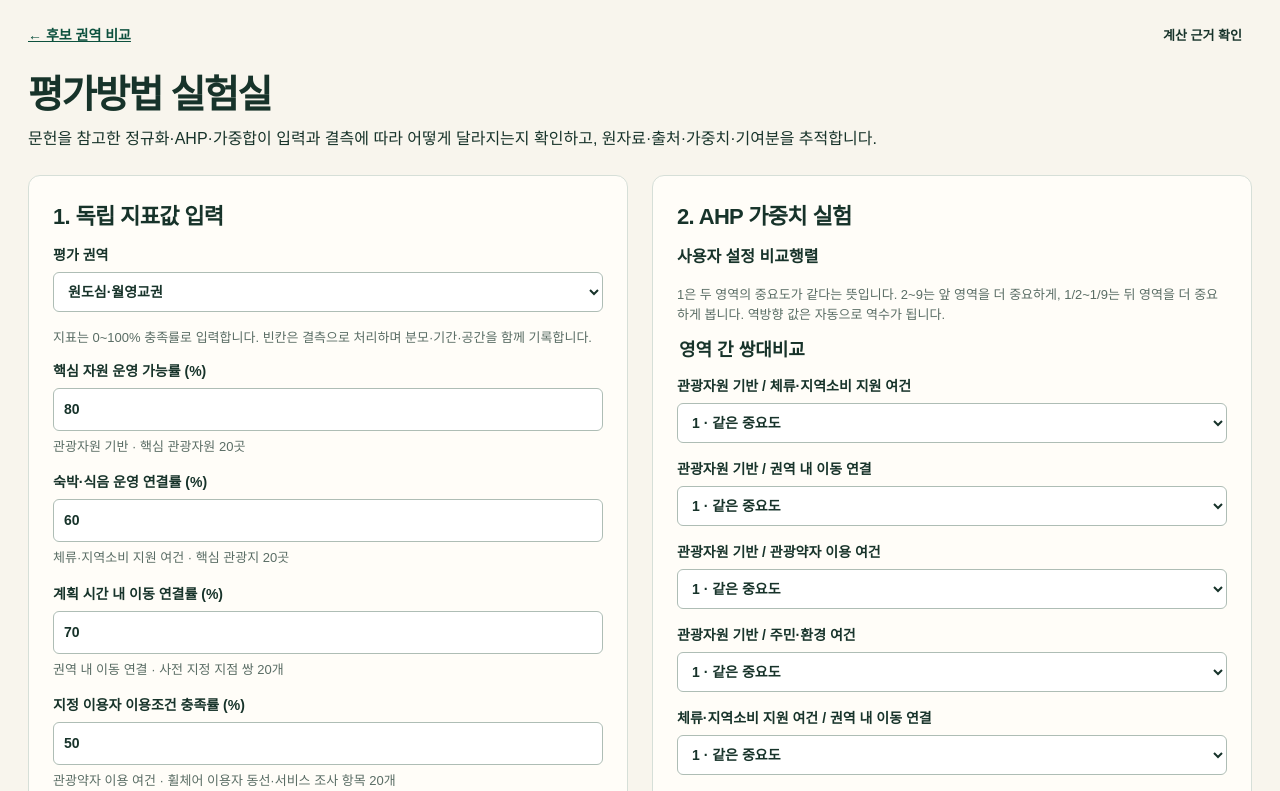
it: evaluation laboratory › recalculates immediately and withholds a total when an observation is blank
The width and height of the screenshot is (1280, 791).
Expected: the text "계산 조건 확인 필요" is not shown
Clear the number field labelled "핵심 자원 운영 가능률 (%) 관광자원 기반 · 핵심 관광자원 20곳" at (328, 409), box left=53, top=388, right=603, bottom=431
(page scrolled)
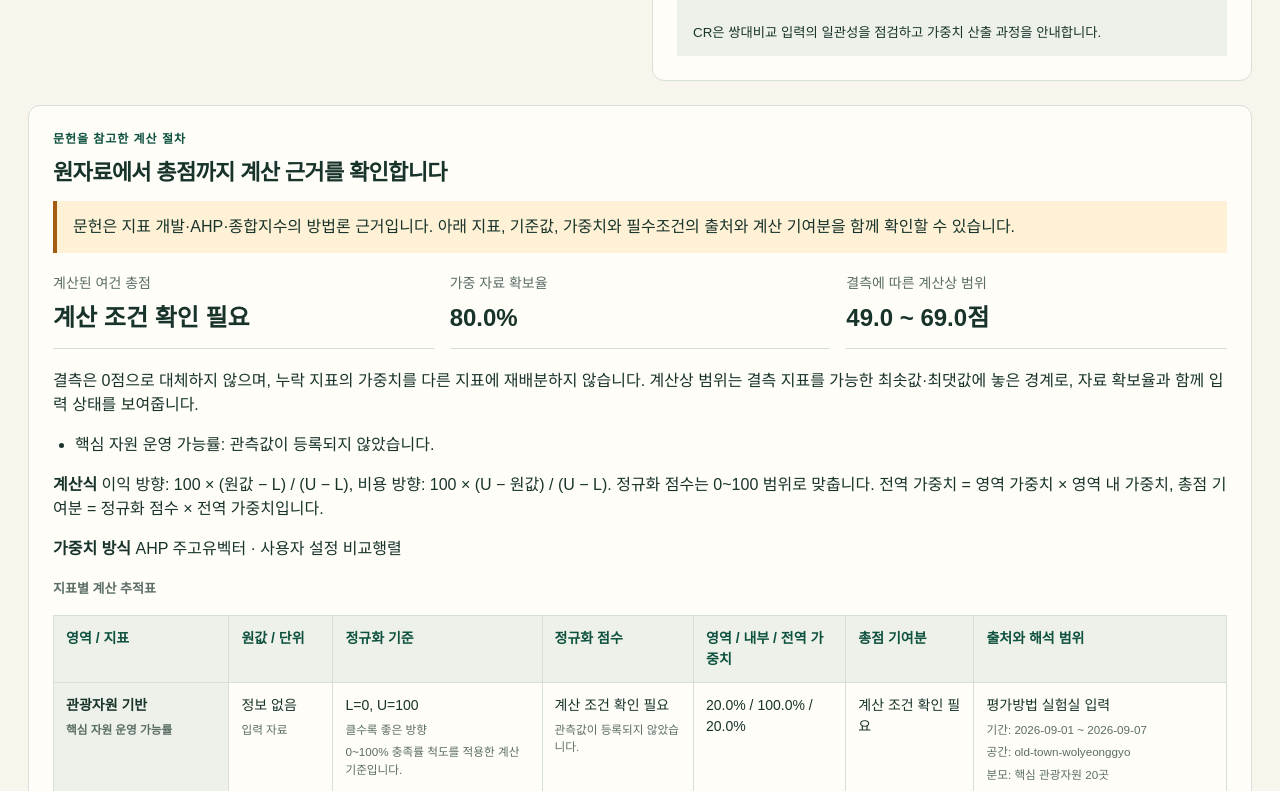
Result: the text "계산 조건 확인 필요" is shown at left=53, top=304, right=250, bottom=331
Result: the text "80.0%" is shown at left=450, top=304, right=518, bottom=331
